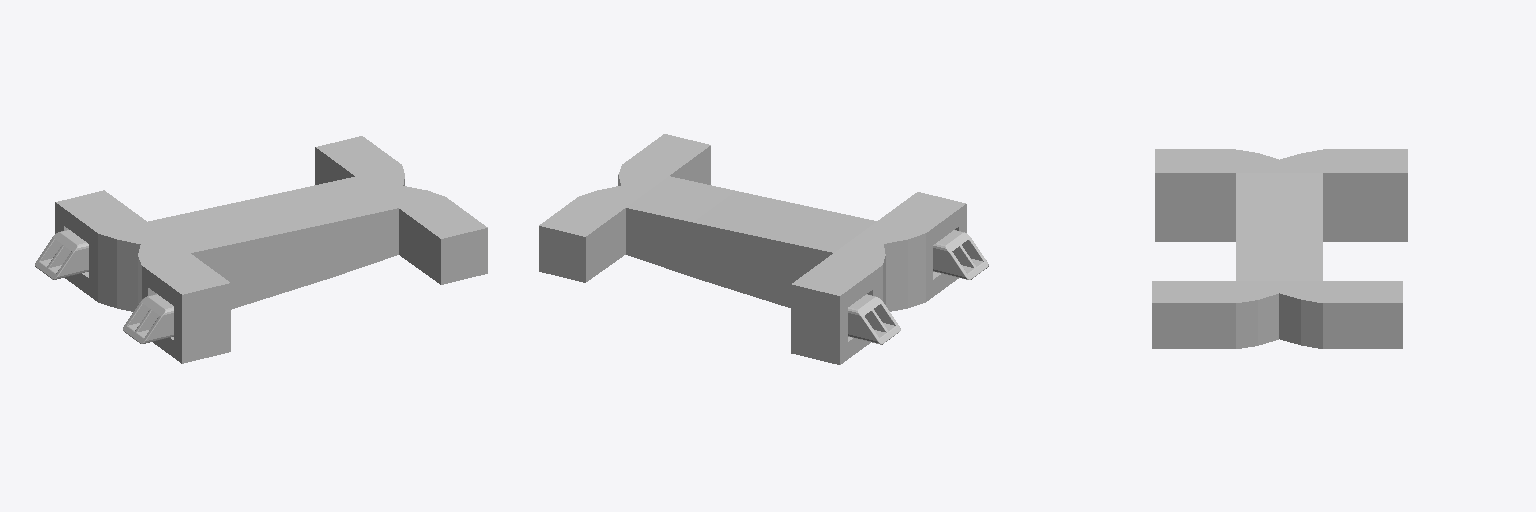
The model's file is Dog Ship.obj.
3 renders of one model, left to right at view 1: azimuth 30°, elevation 25°; view 2: azimuth 150°, elevation 25°; view 3: azimuth 270°, elevation 25°, orthographic.
Parts seen in each view (by area): view 1: pSphere2; view 2: pSphere2; view 3: pSphere2.
Boxes of the visible parts, box(x1,y1,x2,y2) form: pSphere2: box(35, 136, 487, 363); pSphere2: box(539, 134, 988, 364); pSphere2: box(1152, 149, 1407, 348).
Bounding box in the file's own units: 4.66 × 1.06 × 3.09.